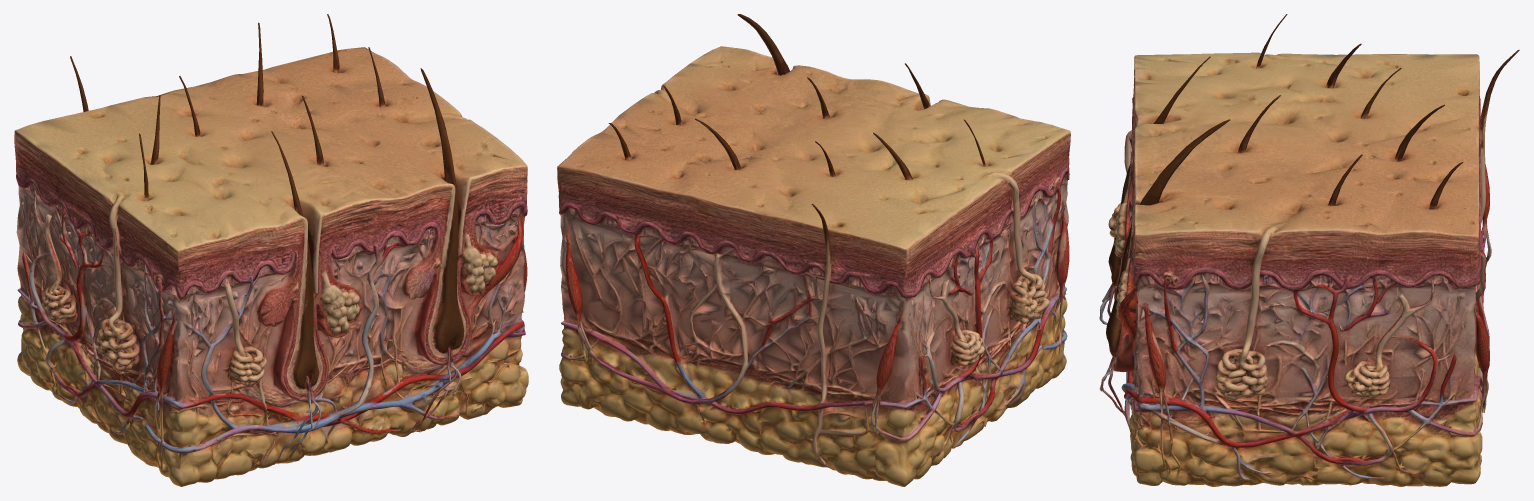
File: skin.glb
3 renders of one model, left to right at view 1: azimuth 30°, elevation 25°; view 2: azimuth 150°, elevation 25°; view 3: azimuth 270°, elevation 25°, orthographic. The views are drawn at different scales.
Parts seen in each view (by area): view 1: tripo_node_e5876caf-7f3d-4121-9468-4d7c567ae73f; view 2: tripo_node_e5876caf-7f3d-4121-9468-4d7c567ae73f; view 3: tripo_node_e5876caf-7f3d-4121-9468-4d7c567ae73f.
Boxes of the visible parts, bbox=[...] form: tripo_node_e5876caf-7f3d-4121-9468-4d7c567ae73f: bbox=[14, 14, 528, 486]; tripo_node_e5876caf-7f3d-4121-9468-4d7c567ae73f: bbox=[557, 14, 1070, 486]; tripo_node_e5876caf-7f3d-4121-9468-4d7c567ae73f: bbox=[1099, 14, 1519, 486].
Bounding box in the file's own units: 32097 × 25337 × 27948.
1 material, 1 textured.
